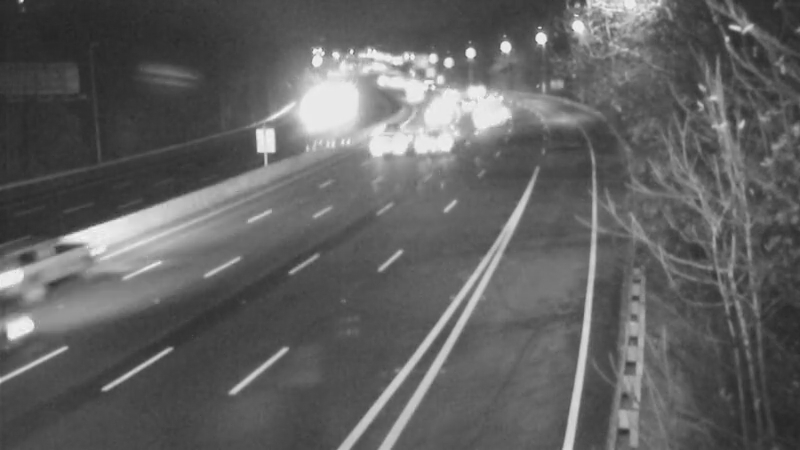vehicle: (1, 269, 92, 379), (1, 234, 72, 314), (409, 85, 459, 135), (464, 87, 514, 137), (361, 104, 411, 154), (404, 119, 454, 169), (359, 119, 409, 169)
